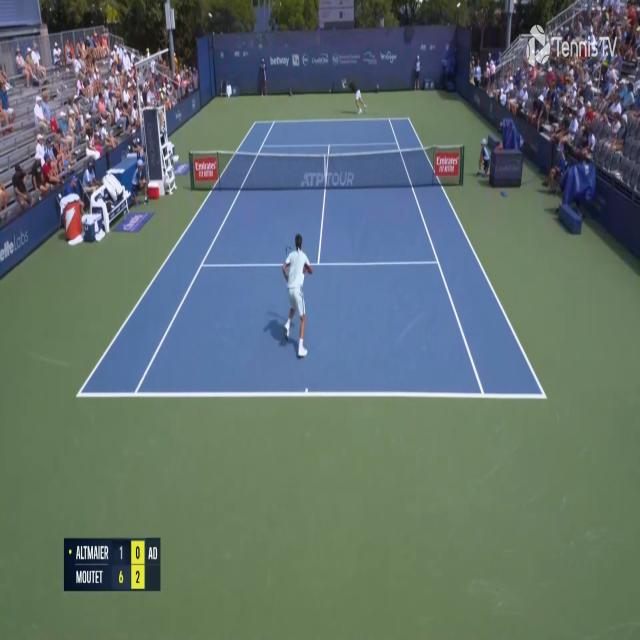tennis-player: (280, 230, 313, 360), (340, 74, 368, 115)
